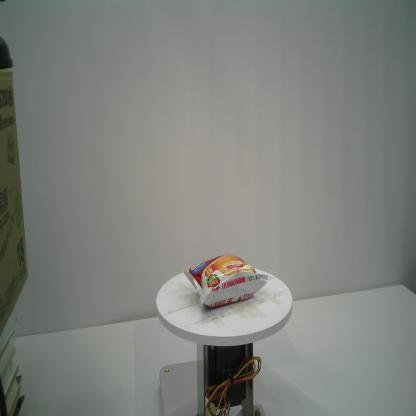Dessert: (181, 254, 268, 310)
